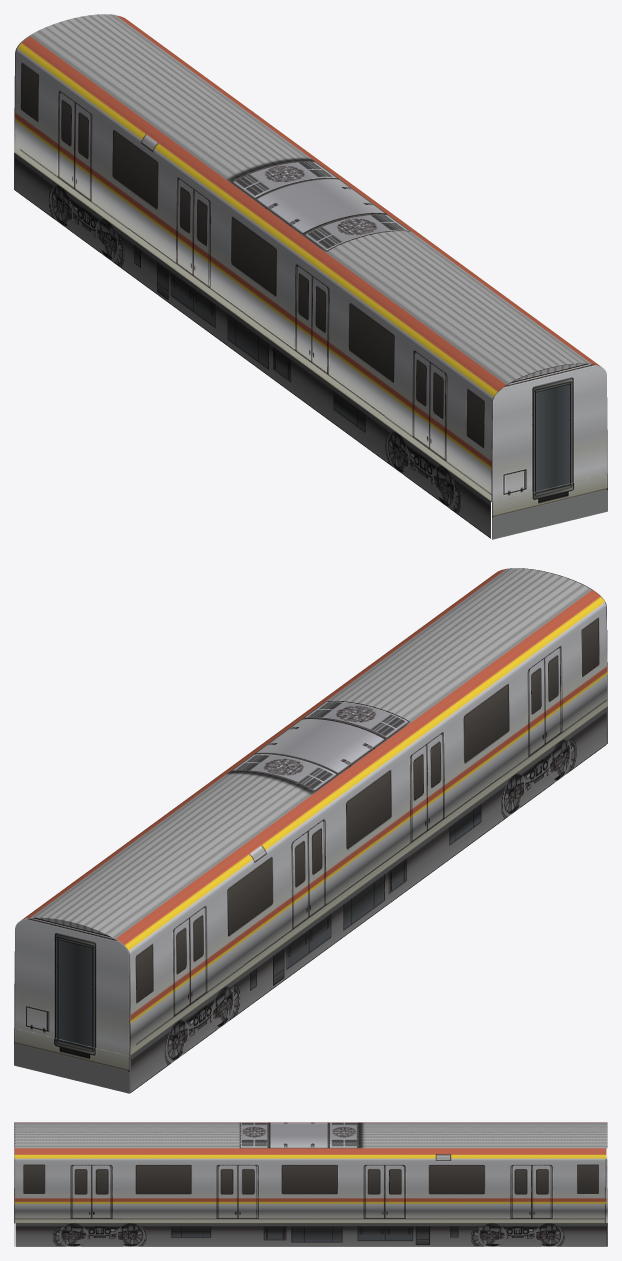
Rendered from car6.glb.
3 renders of one model, top to bottom at view 1: azimuth 30°, elevation 25°; view 2: azimuth 150°, elevation 25°; view 3: azimuth 270°, elevation 25°, orthographic. The views are drawn at different scales.
Visible parts, largest first — view 1: tokyometro-17000-car6; view 2: tokyometro-17000-car6; view 3: tokyometro-17000-car6.
Part boxes in pixels (bbox=[...]): tokyometro-17000-car6: bbox=[14, 14, 607, 539]; tokyometro-17000-car6: bbox=[14, 568, 607, 1093]; tokyometro-17000-car6: bbox=[14, 1122, 607, 1246].
Size of the model in its own units: 2.8 by 3.63 by 20.03.
Materials: 9 (8 with a texture image).
